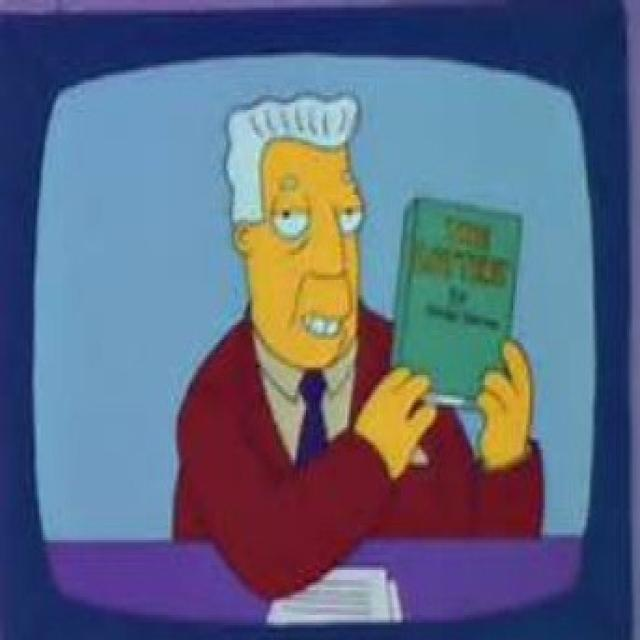Kent Brockman: (221, 90, 369, 380)
